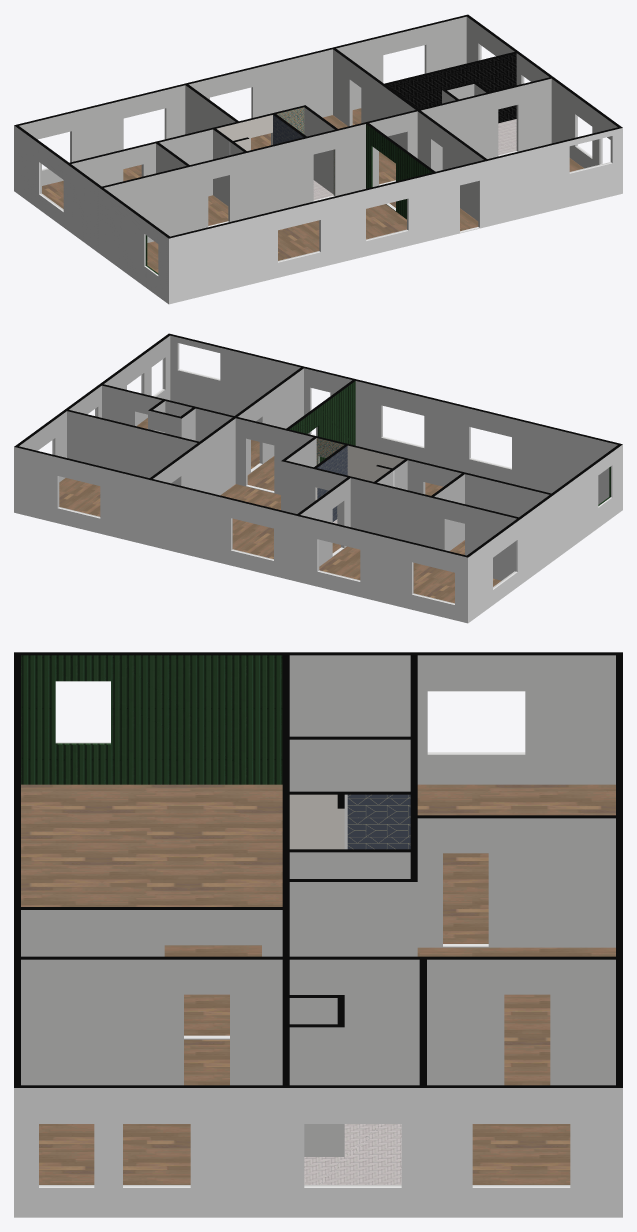
The picture shows the model from 3 angles, top to bottom: view 1: azimuth 30°, elevation 25°; view 2: azimuth 150°, elevation 25°; view 3: azimuth 270°, elevation 25°; orthographic projection. The views are drawn at different scales.
Visible parts, largest first — view 1: geometry_#BDBDBB (×8), geometry_wall (×7), geometry_rs-4141, geometry_wallTop (×2), geometry_rs-13664, geometry_rs-13775, geometry_#EADED0, geometry_rs-13663, geometry_rs-3912, geometry_rs-13621; view 2: geometry_#BDBDBB (×8), geometry_wall (×7), geometry_rs-4141, geometry_wallTop (×2), geometry_rs-13775, geometry_#EADED0, geometry_rs-13621; view 3: geometry_#BDBDBB (×3), geometry_rs-4141, geometry_wall (×3), geometry_rs-13775, geometry_wallTop (×7), geometry_rs-13663, geometry_rs-13621, geometry_#EADED0.
Part boxes in pixels (x1=…): geometry_#BDBDBB (×8): x1=19, y1=16, x2=617, y2=242; geometry_wall (×7): x1=14, y1=125, x2=622, y2=304; geometry_rs-4141: x1=42, y1=108, x2=583, y2=272; geometry_wallTop (×2): x1=69, y1=48, x2=551, y2=238; geometry_rs-13664: x1=386, y1=53, x2=516, y2=123; geometry_rs-13775: x1=366, y1=124, x2=431, y2=219; geometry_#EADED0: x1=216, y1=115, x2=272, y2=150; geometry_rs-13663: x1=313, y1=119, x2=516, y2=199; geometry_rs-3912: x1=276, y1=107, x2=334, y2=195; geometry_rs-13621: x1=273, y1=115, x2=303, y2=144; geometry_#BDBDBB (×8): x1=19, y1=335, x2=617, y2=580; geometry_wall (×7): x1=14, y1=444, x2=622, y2=623; geometry_rs-4141: x1=59, y1=418, x2=501, y2=603; geometry_wallTop (×2): x1=66, y1=367, x2=621, y2=518; geometry_rs-13775: x1=289, y1=381, x2=355, y2=462; geometry_#EADED0: x1=316, y1=445, x2=404, y2=499; geometry_rs-13621: x1=317, y1=446, x2=347, y2=521; geometry_#BDBDBB (×3): x1=21, y1=655, x2=615, y2=1156; geometry_rs-4141: x1=21, y1=784, x2=615, y2=1184; geometry_wall (×3): x1=14, y1=1088, x2=622, y2=1217; geometry_rs-13775: x1=21, y1=655, x2=282, y2=784; geometry_wallTop (×7): x1=14, y1=652, x2=622, y2=1087; geometry_rs-13663: x1=304, y1=1124, x2=401, y2=1184; geometry_rs-13621: x1=347, y1=794, x2=410, y2=849; geometry_#EADED0: x1=289, y1=794, x2=344, y2=849.
Size of the model in its own units: 22 by 3.05 by 13.
Materials: 10 (6 with a texture image).
